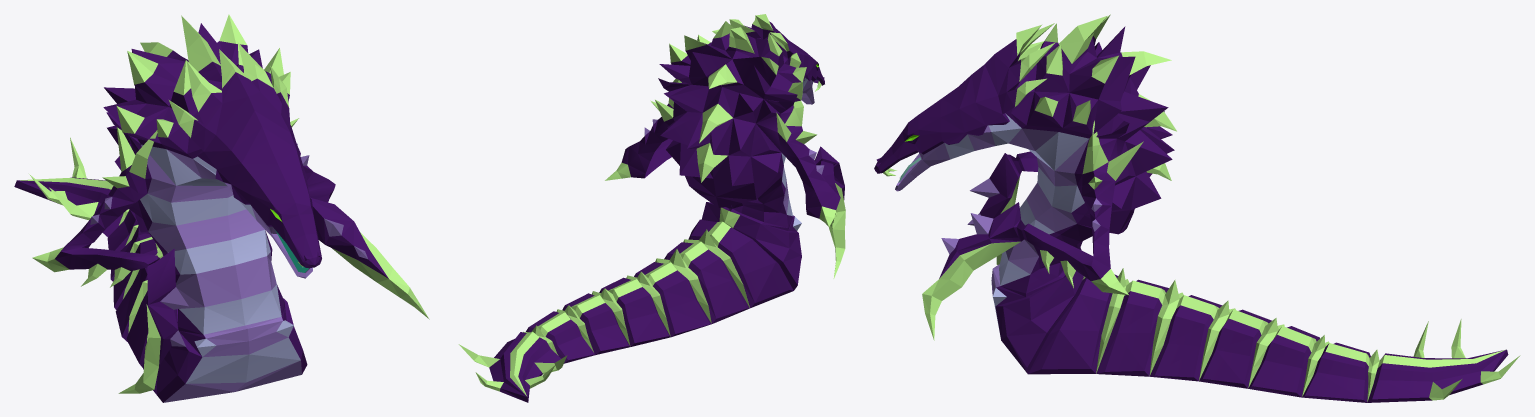
Rendered from Walk (21).obj.
3 views of the same model, side by side, from view 1: azimuth 30°, elevation 25°; view 2: azimuth 150°, elevation 25°; view 3: azimuth 270°, elevation 25° (orthographic). The views are drawn at different scales.
Parts seen in each view (by area): view 1: Alien_Serpent; view 2: Alien_Serpent; view 3: Alien_Serpent.
Part boxes in pixels (x1,y1,x2,y2): Alien_Serpent: (14, 14, 429, 402); Alien_Serpent: (458, 14, 845, 402); Alien_Serpent: (874, 14, 1520, 402).
Bounding box in the file's own units: 193 × 215 × 384.
Materials: 1 (1 with a texture image).
